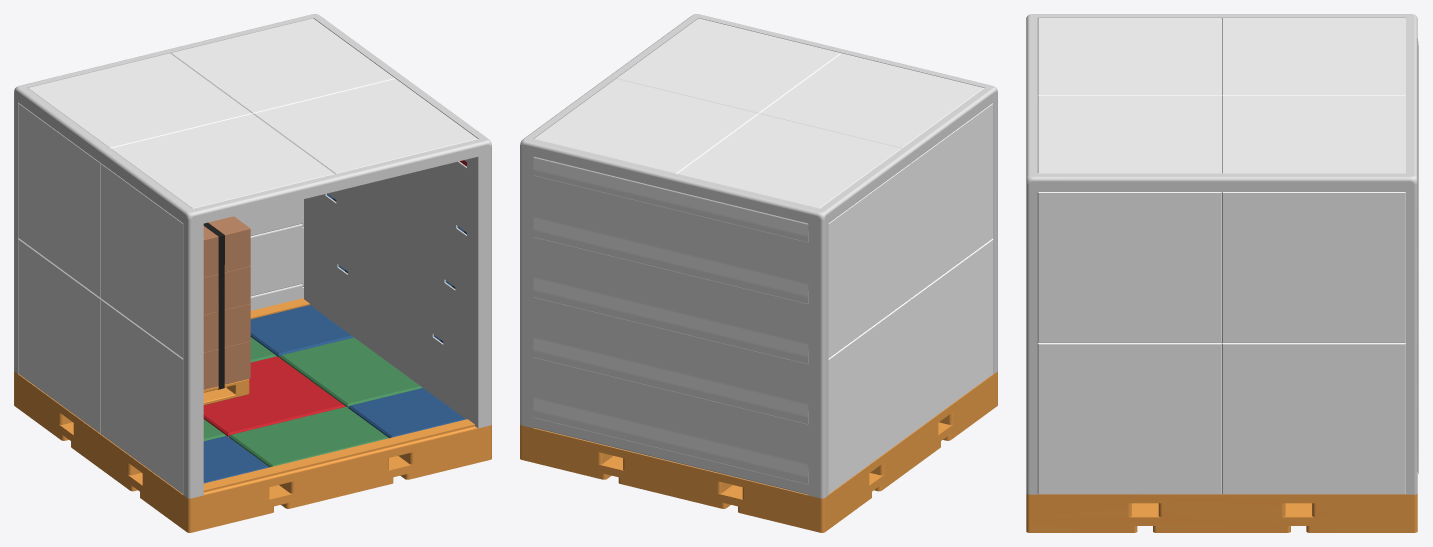
3 views of the same model, side by side, from view 1: azimuth 30°, elevation 25°; view 2: azimuth 150°, elevation 25°; view 3: azimuth 270°, elevation 25° (orthographic). The views are drawn at different scales.
Parts seen in each view (by area): view 1: cube.001; view 2: cube.001; view 3: cube.001.
Boxes of the visible parts, x1,y1,x2,y2 form: cube.001: [14, 14, 491, 532]; cube.001: [520, 14, 997, 532]; cube.001: [1026, 14, 1418, 532].
Bounding box in the file's own units: 102 × 102 × 102.
